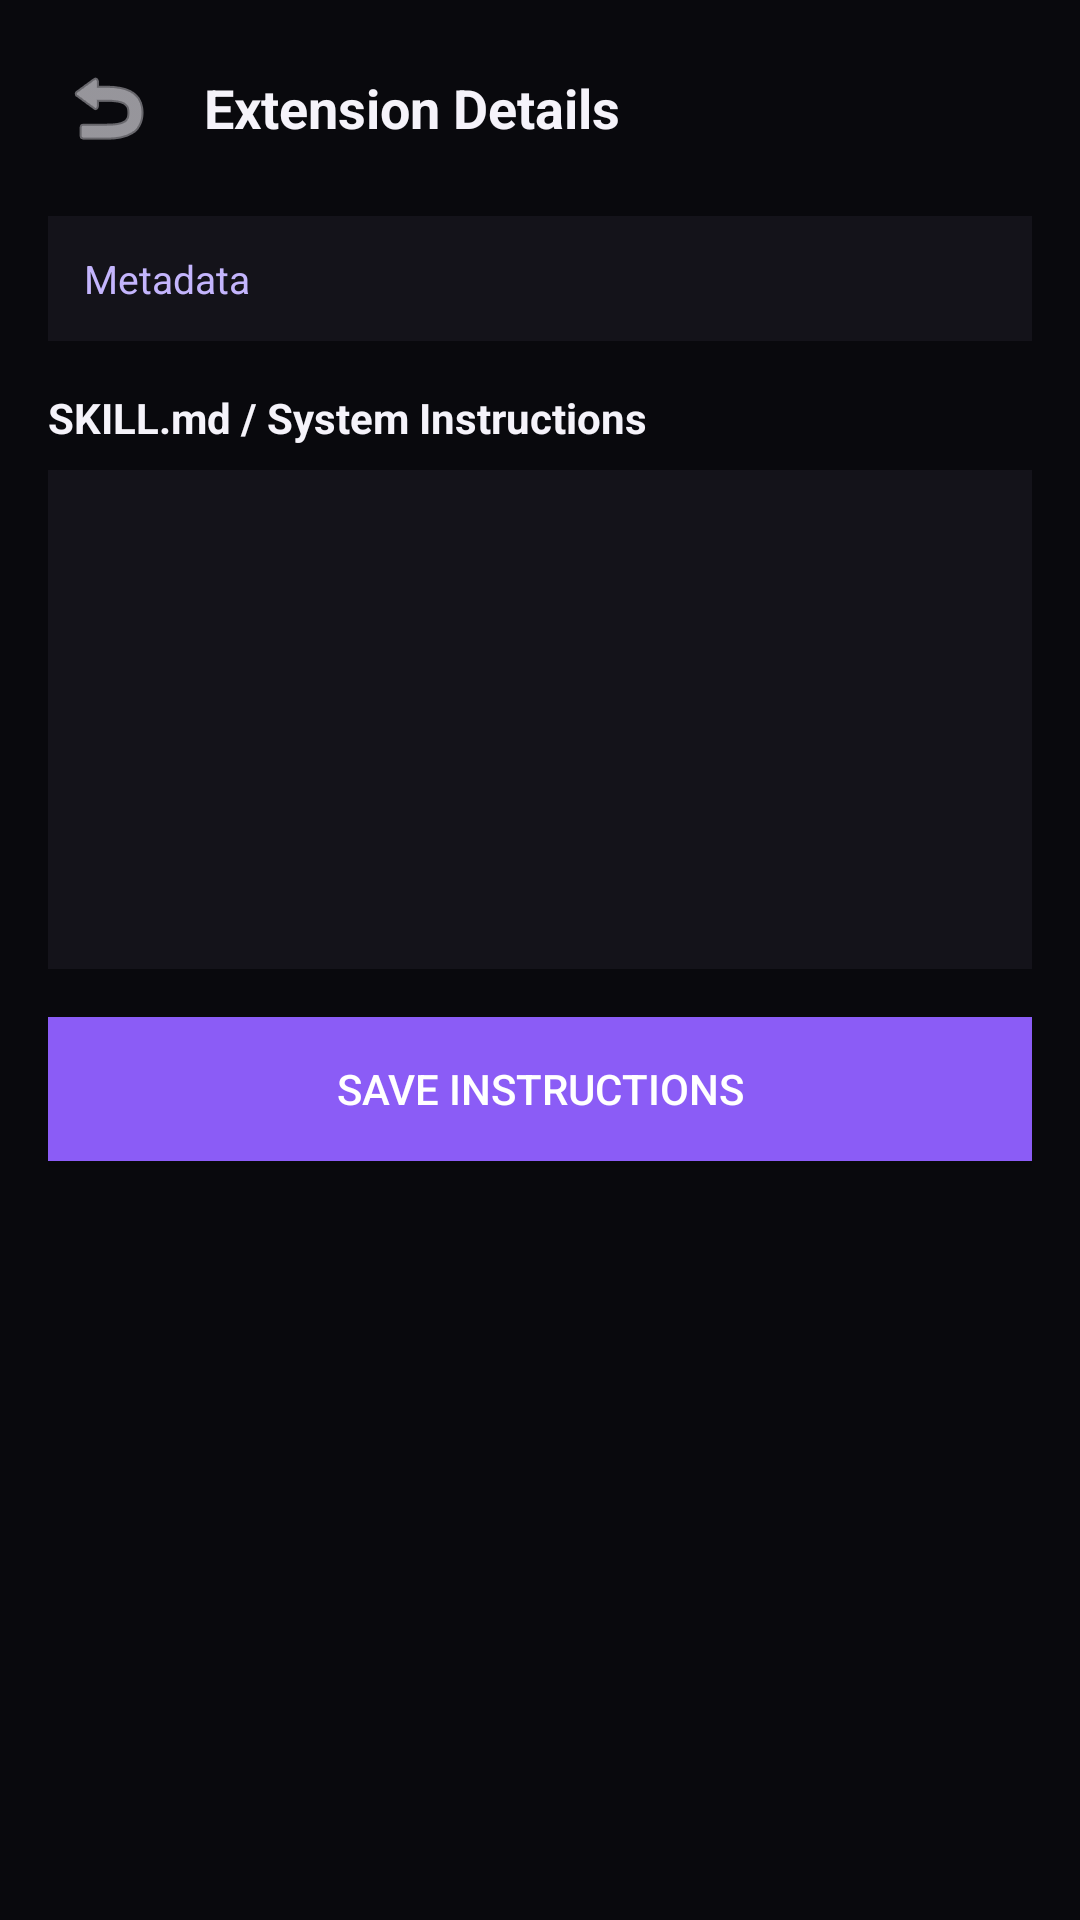

Screen size 1080 × 1920. Icon name, then its box in pixels as [x1, y1, x2, y2]:
Back: [75, 77, 144, 140]
